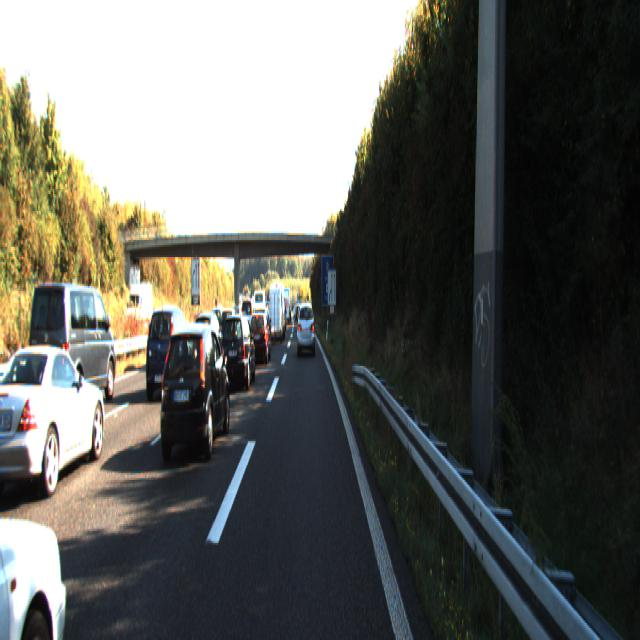Car: (0, 366, 86, 638), (0, 339, 109, 504), (28, 279, 118, 419), (157, 319, 230, 466), (144, 302, 194, 399), (218, 312, 255, 392), (247, 312, 271, 364), (296, 300, 315, 354), (268, 286, 284, 344)
